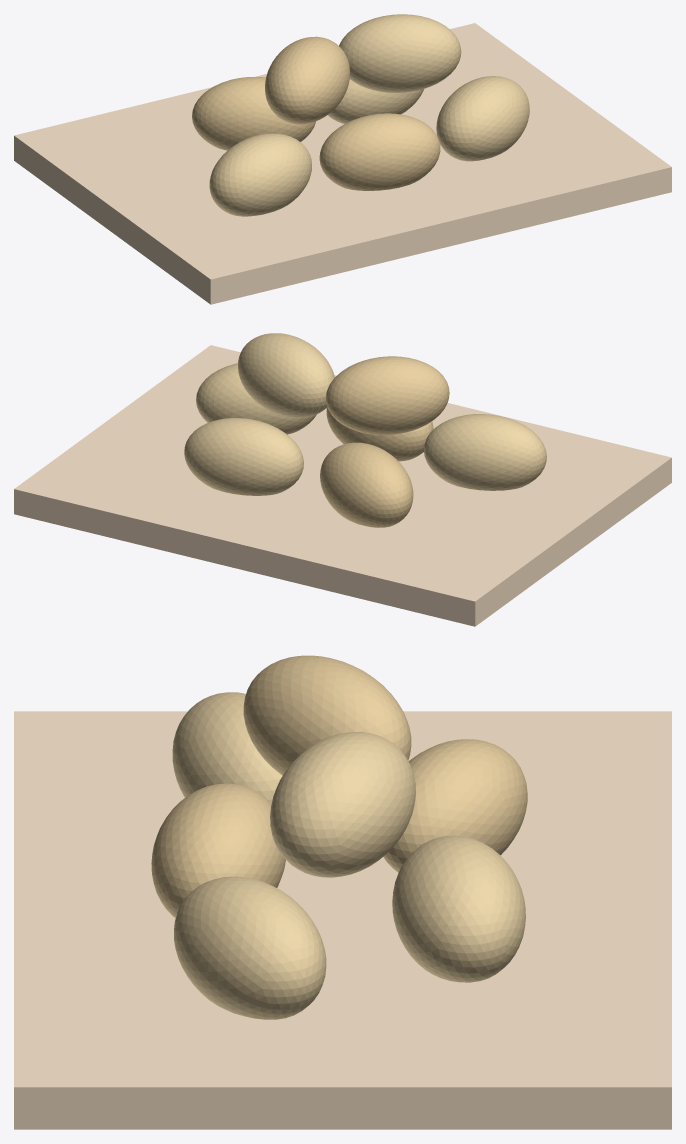
File: item_date.glb
The picture shows the model from 3 angles, top to bottom: view 1: azimuth 30°, elevation 25°; view 2: azimuth 150°, elevation 25°; view 3: azimuth 270°, elevation 25°; orthographic projection. The views are drawn at different scales.
Parts seen in each view (by area): view 1: Tray, Date_6, Date_1, Date_0, Date_2, Date_5, Date_3, Date_4; view 2: Tray, Date_5, Date_0, Date_4, Date_6, Date_3, Date_2, Date_1; view 3: Tray, Date_2, Date_6, Date_4, Date_5, Date_1, Date_3, Date_0.
Part boxes in pixels (box(x1,y1,x2,y2)): Tray: box(14, 23, 671, 304); Date_6: box(339, 14, 461, 92); Date_1: box(319, 113, 440, 190); Date_0: box(209, 133, 311, 216); Date_2: box(436, 76, 529, 161); Date_5: box(265, 36, 350, 124); Date_3: box(192, 76, 315, 150); Date_4: box(327, 79, 423, 123); Tray: box(14, 345, 671, 626); Date_5: box(326, 356, 449, 435); Date_0: box(424, 414, 546, 490); Date_4: box(184, 418, 303, 495); Date_6: box(238, 333, 334, 418); Date_3: box(320, 442, 413, 527); Date_2: box(196, 363, 316, 434); Date_1: box(326, 407, 433, 461); Tray: box(14, 711, 671, 1129); Date_2: box(174, 876, 326, 1019); Date_6: box(270, 732, 415, 877); Date_4: box(392, 835, 525, 982); Date_5: box(243, 655, 411, 775); Date_1: box(151, 783, 285, 917); Date_3: box(383, 739, 527, 872); Date_0: box(172, 692, 282, 804).
Bounding box in the file's own units: 1.15 × 0.345 × 0.85.
